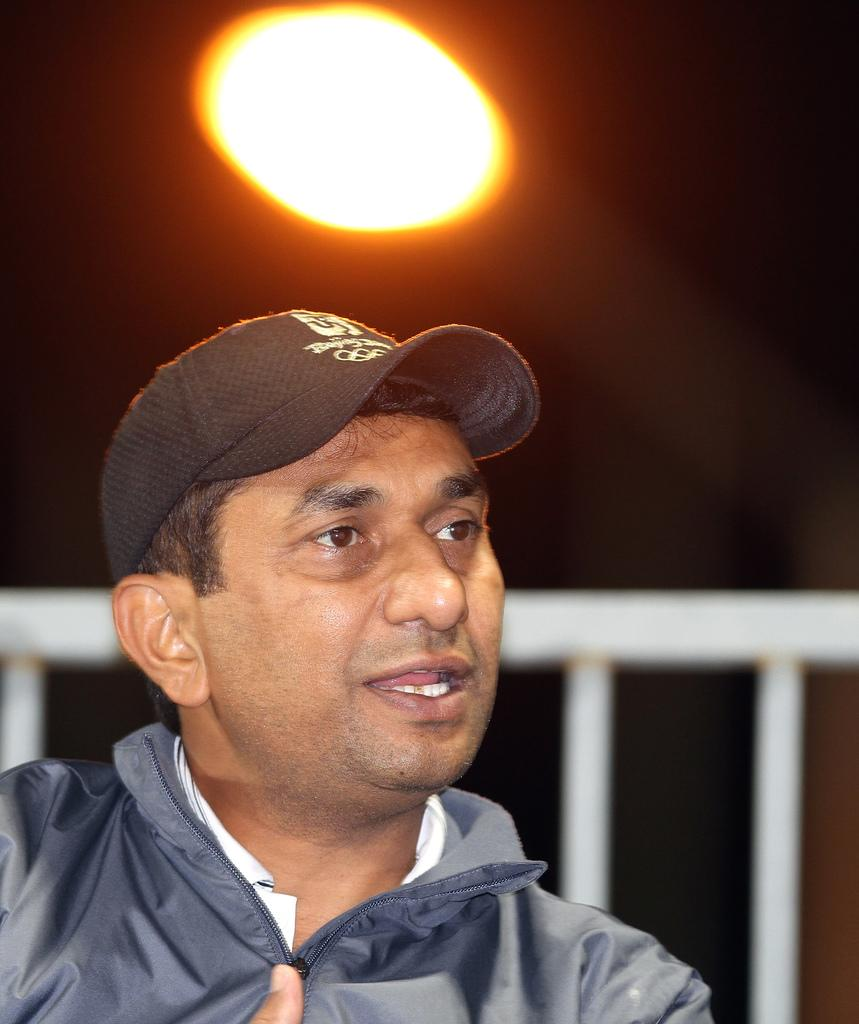Hat: (98, 306, 541, 574)
